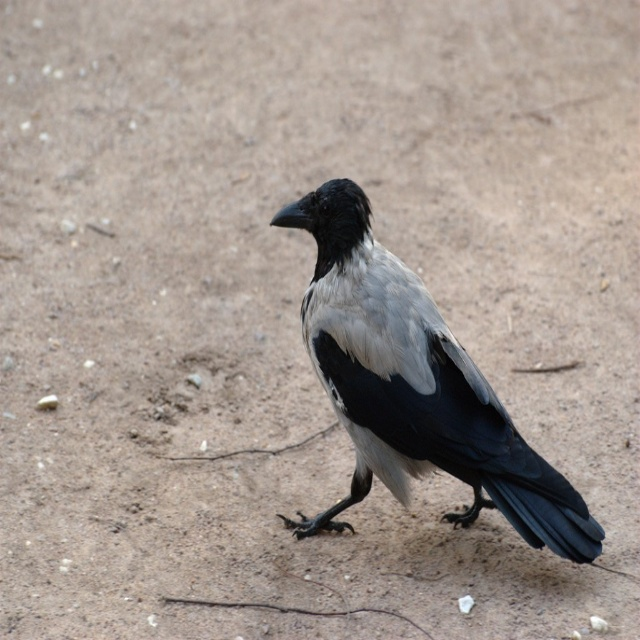Raven: (269, 178, 605, 564)
